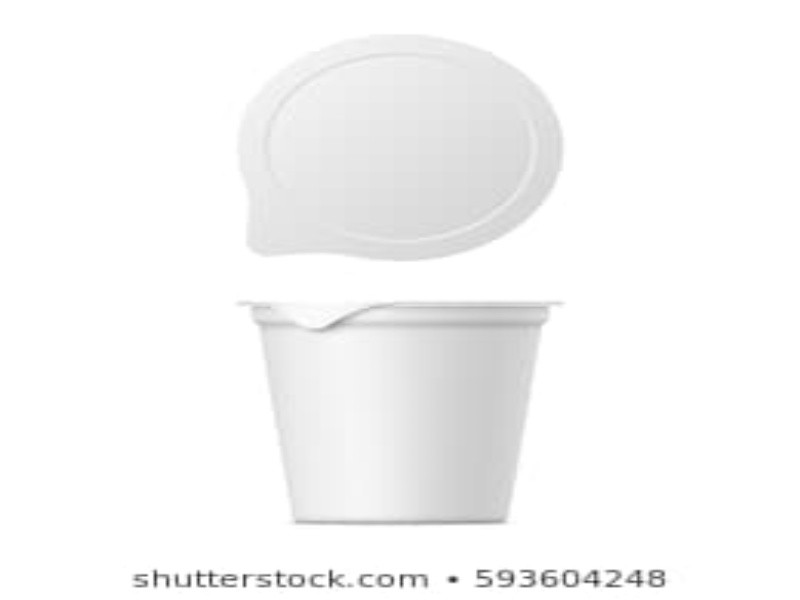yogurt-cup: (245, 290, 581, 534)
